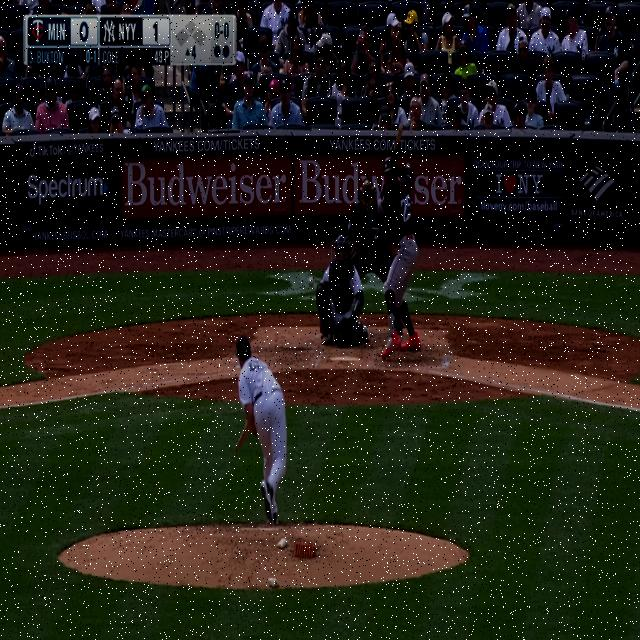baseball: (307, 274, 315, 288)
